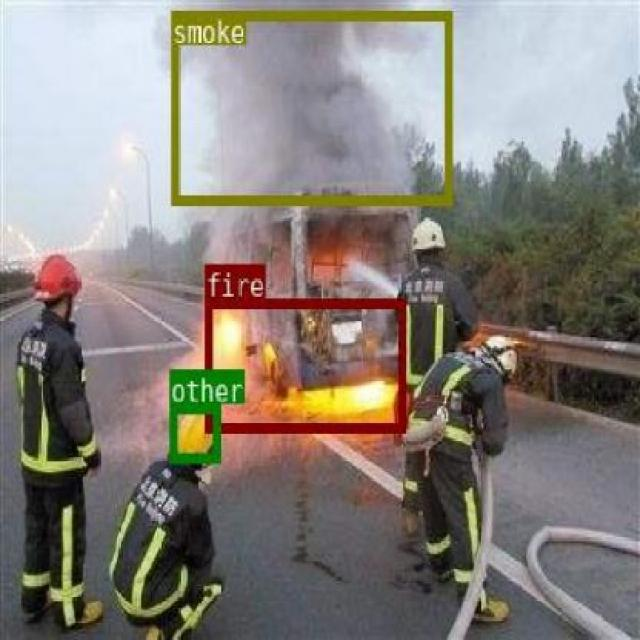Fire: (204, 296, 404, 429)
Smoke: (170, 9, 450, 202)
